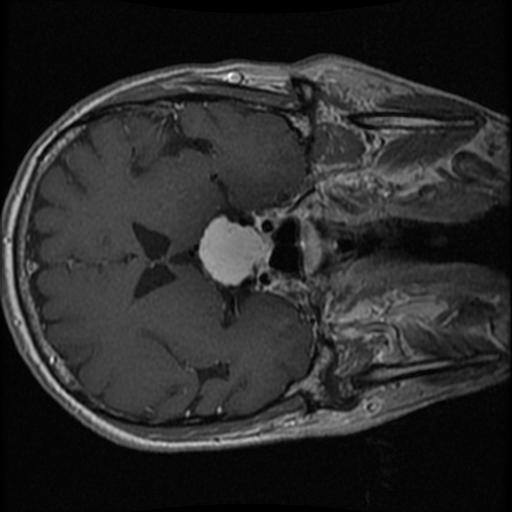meningioma: (197, 214, 272, 286)
